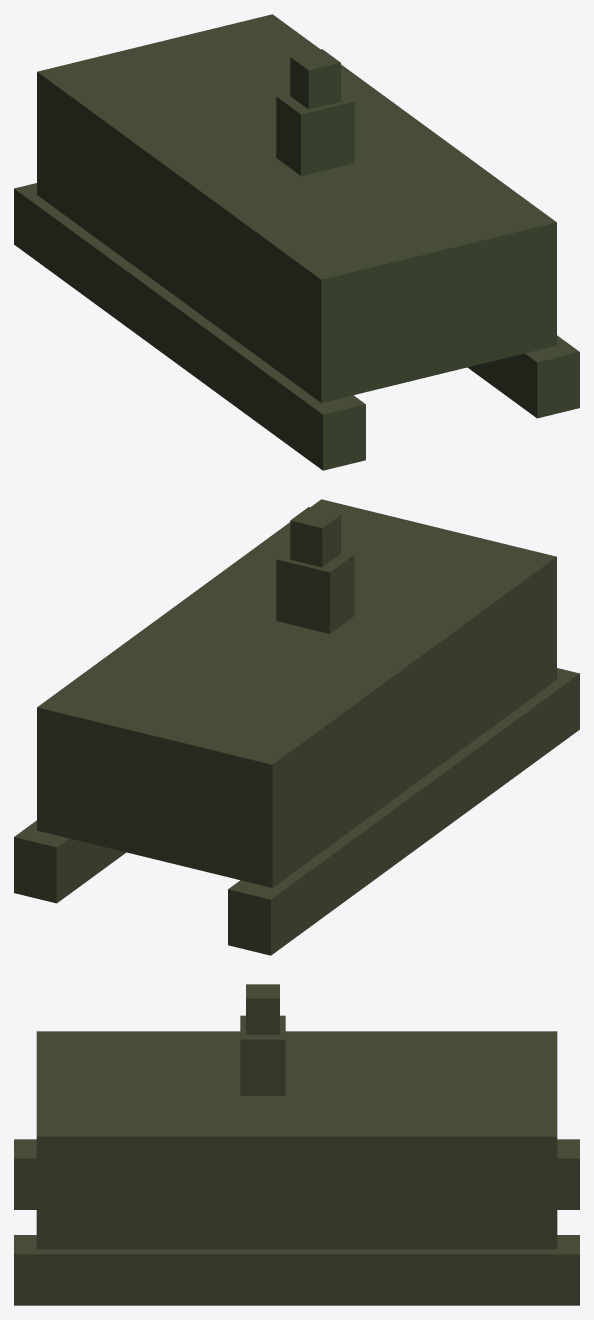
Rendered from Unit_MechInfantry.obj.
3 views of the same model, one above another, from view 1: azimuth 30°, elevation 25°; view 2: azimuth 150°, elevation 25°; view 3: azimuth 270°, elevation 25° (orthographic). The views are drawn at different scales.
Bounding box in the file's own units: 2.4 × 2.5 × 5.
